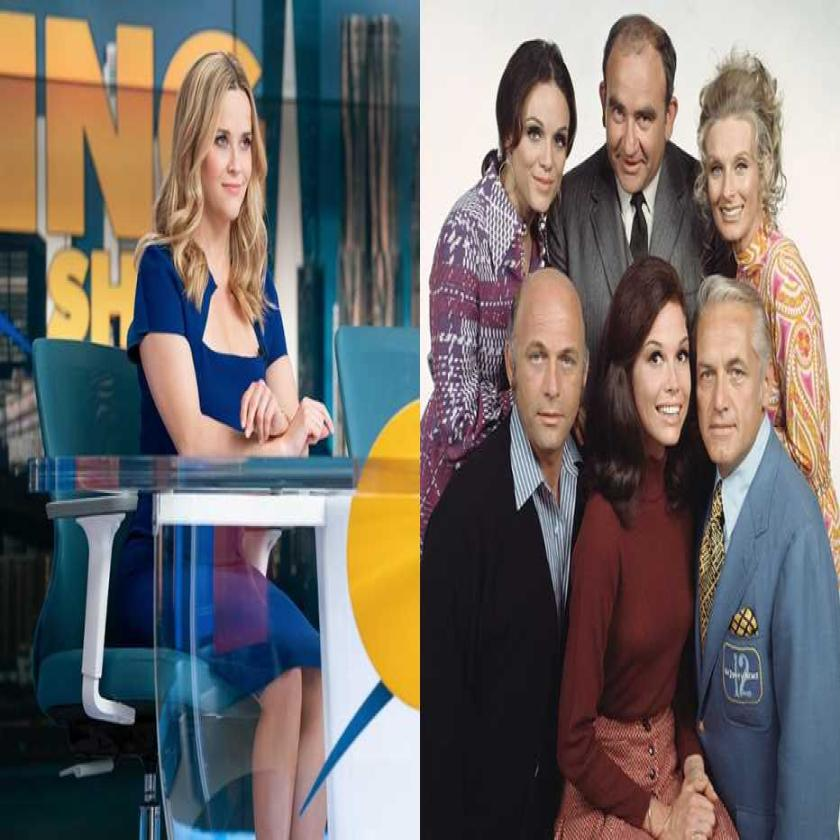Sin_casco: (479, 18, 585, 213), (495, 260, 593, 464), (605, 246, 692, 468), (170, 51, 268, 244), (697, 257, 787, 461), (698, 46, 793, 239), (595, 5, 676, 194)
